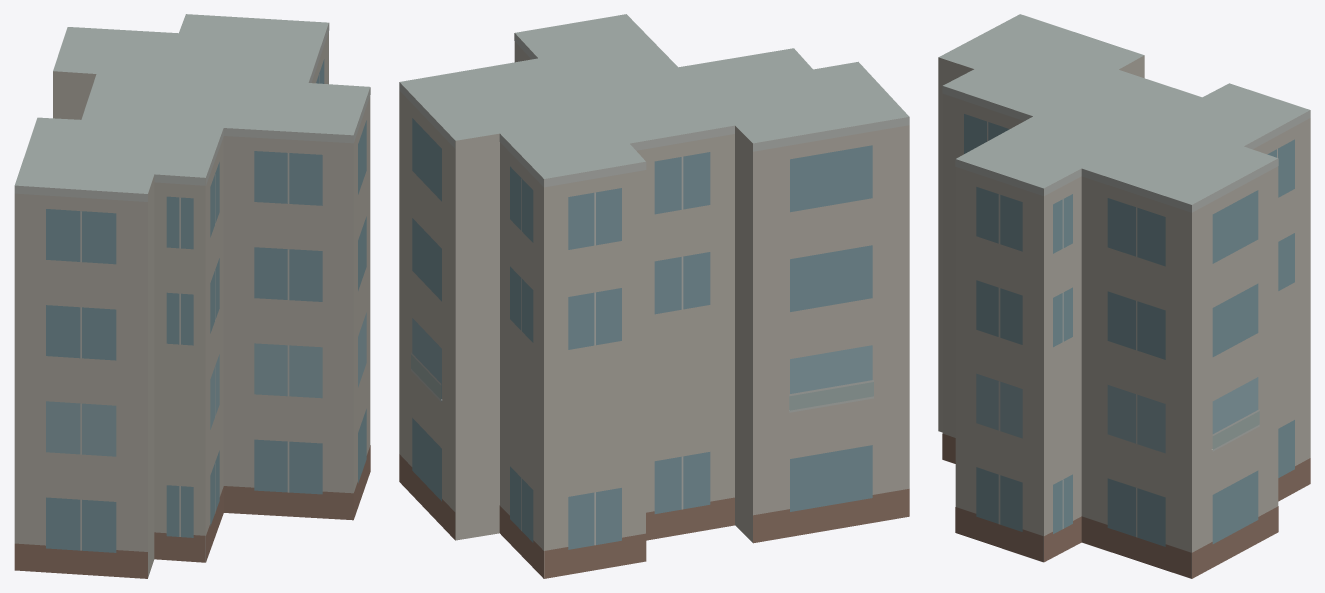
Rendered from survey-upis-32863882.glb.
3 renders of one model, left to right at view 1: azimuth 30°, elevation 25°; view 2: azimuth 150°, elevation 25°; view 3: azimuth 270°, elevation 25°, orthographic. The views are drawn at different scales.
Visible parts, largest first — view 1: survey-upis-32863882.tmp; view 2: survey-upis-32863882.tmp; view 3: survey-upis-32863882.tmp.
Boxes of the visible parts, x1,y1,x2,y2 form: survey-upis-32863882.tmp: [14, 14, 370, 578]; survey-upis-32863882.tmp: [399, 14, 909, 578]; survey-upis-32863882.tmp: [938, 14, 1310, 578].
Bounding box in the file's own units: 12.82 × 11.7 × 10.56.
